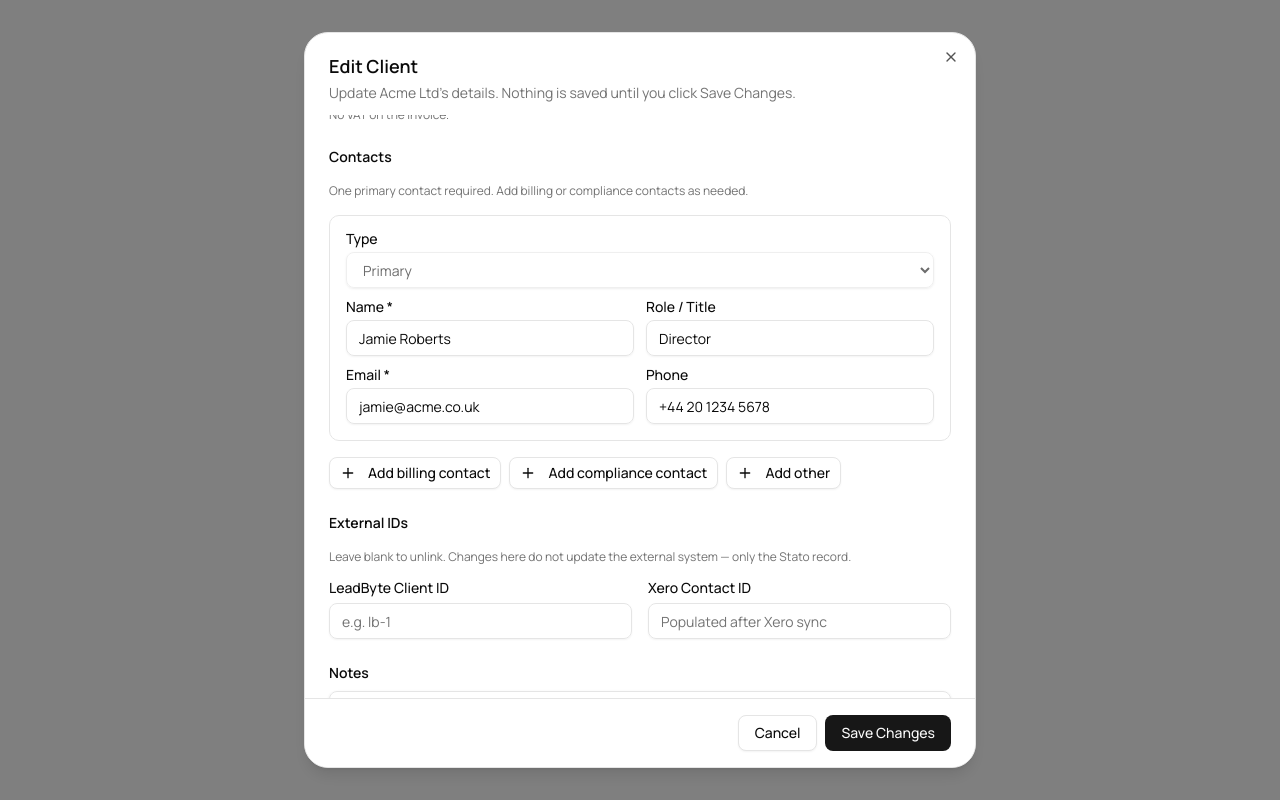
it: EditClientDialog › M5 — a junk phone blocks the save
(page scrolled)
Type "not-a-phone ###" into the field showing "+44 20 1234 5678" at (790, 406), box [646,388,934,424]
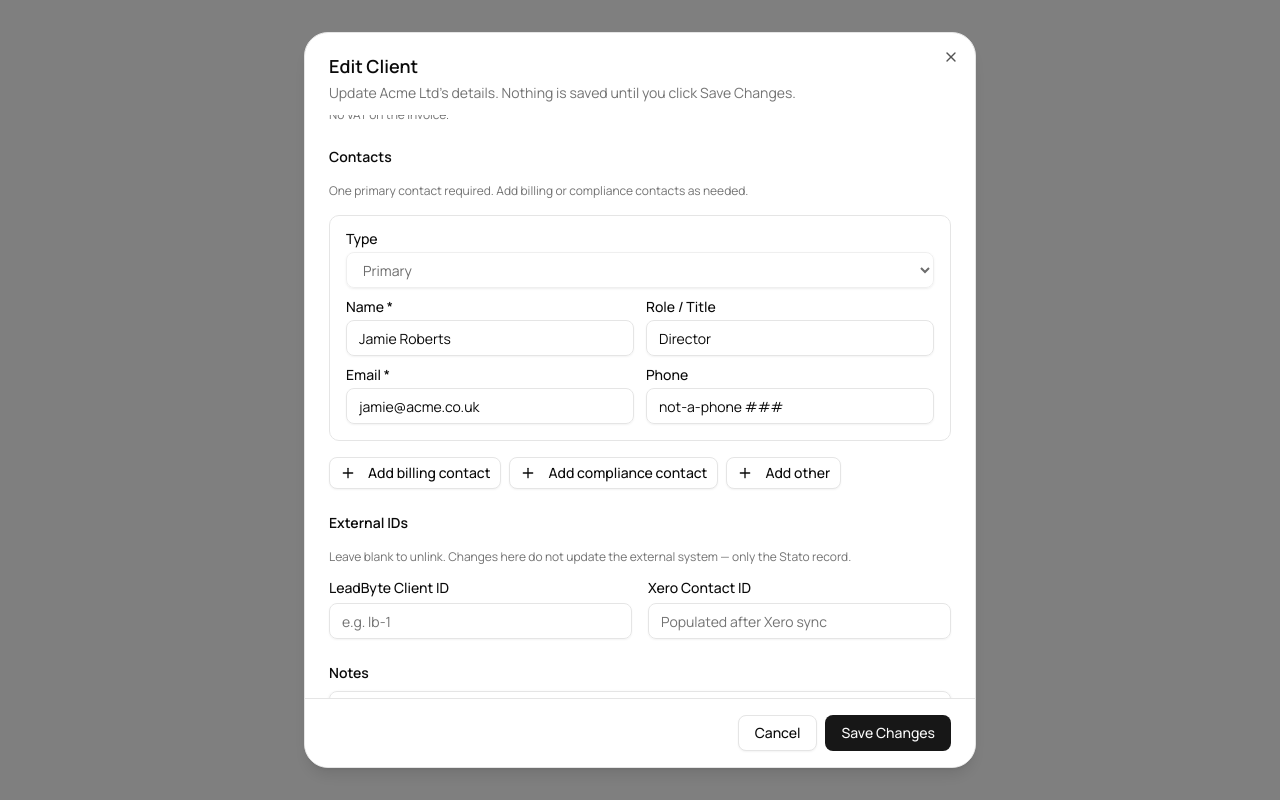
Click the button "Save Changes" at (888, 733), box [826,715,951,751]
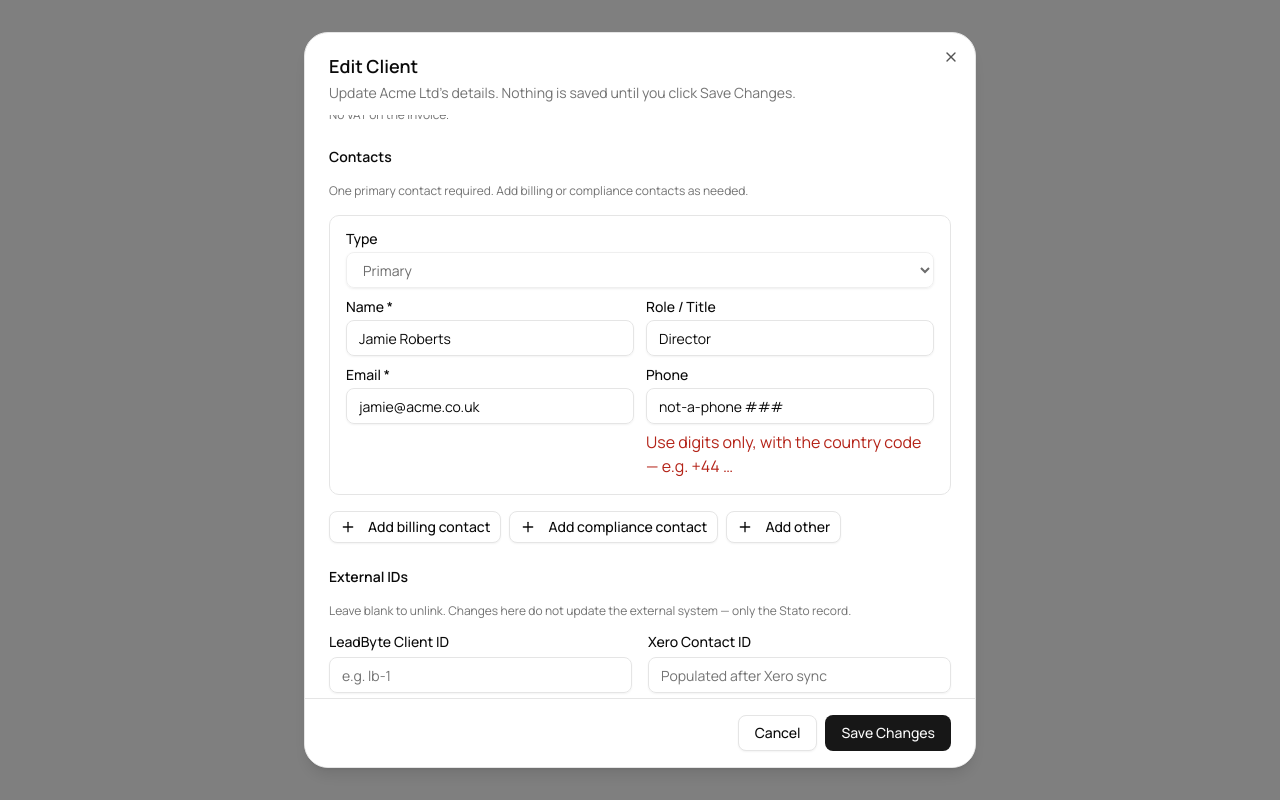
Check: the text "Use digits only, with the country code — e.g. +44 …" is shown, box [646,431,921,477]
